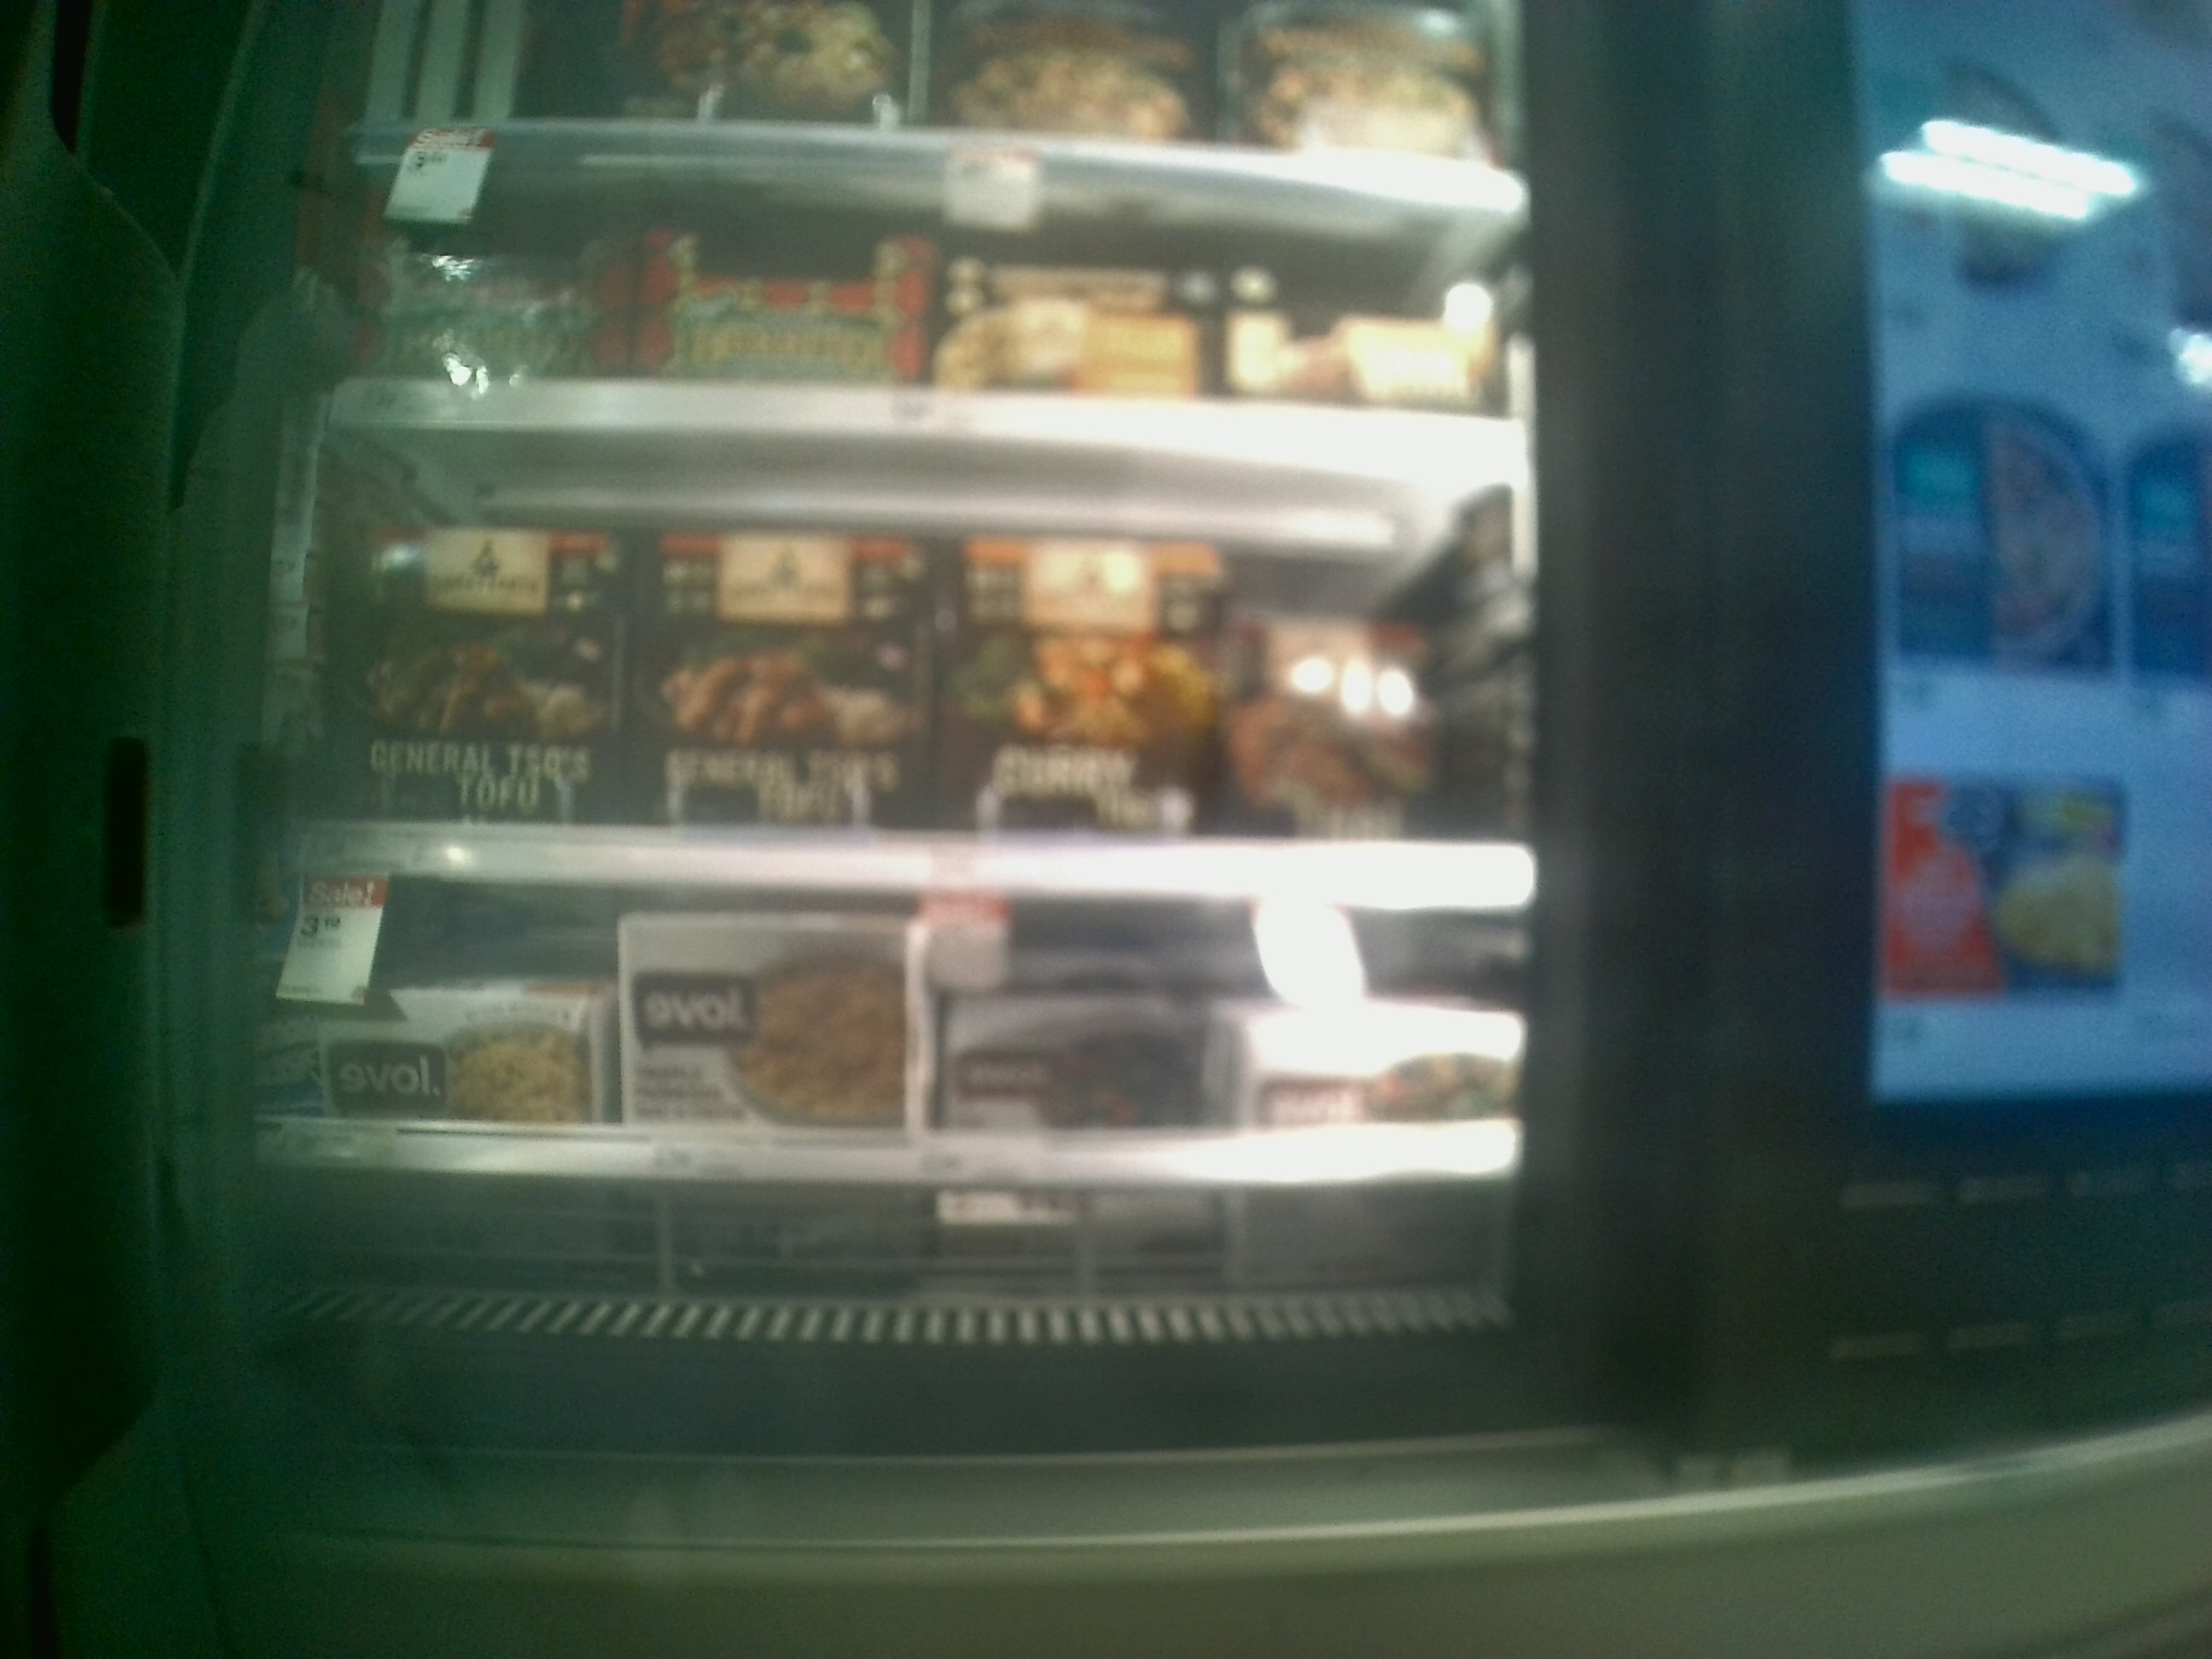frozen-food-shelf: (286, 471, 1541, 922), (246, 924, 1548, 1180)
